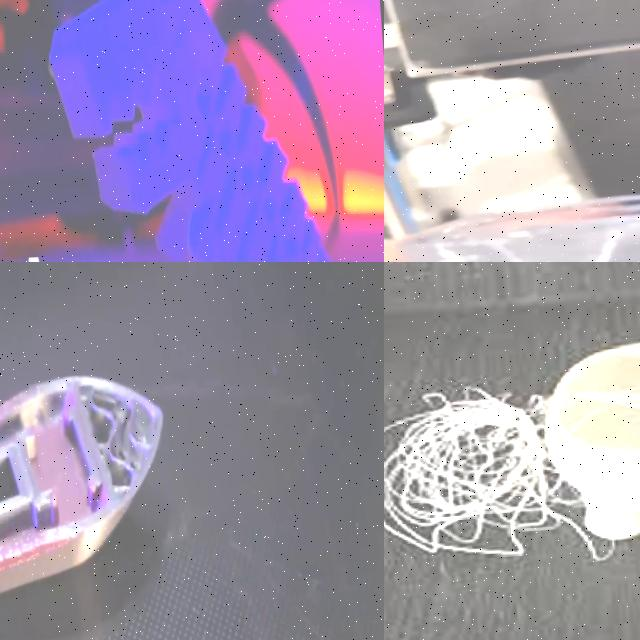spaghetti: (384, 375, 557, 598)
